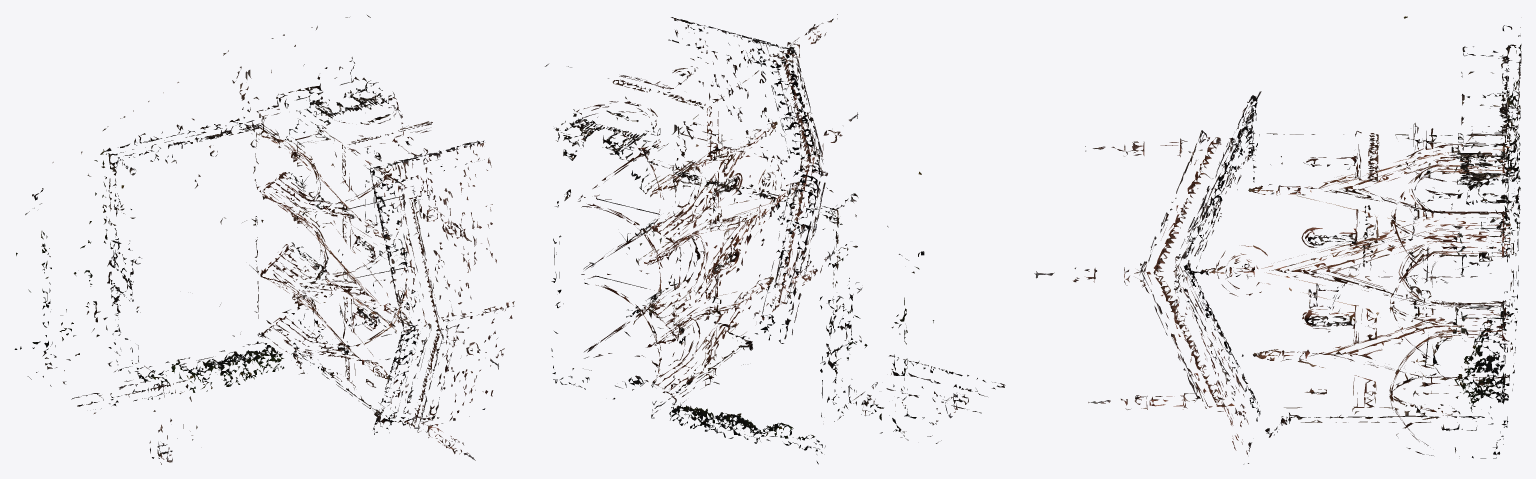
3 views of the same model, side by side, from view 1: azimuth 30°, elevation 25°; view 2: azimuth 150°, elevation 25°; view 3: azimuth 270°, elevation 25° (orthographic). The views are drawn at different scales.
Size of the model in its own units: 24.86 by 20.9 by 25.05.
Materials: 1 (1 with a texture image).
